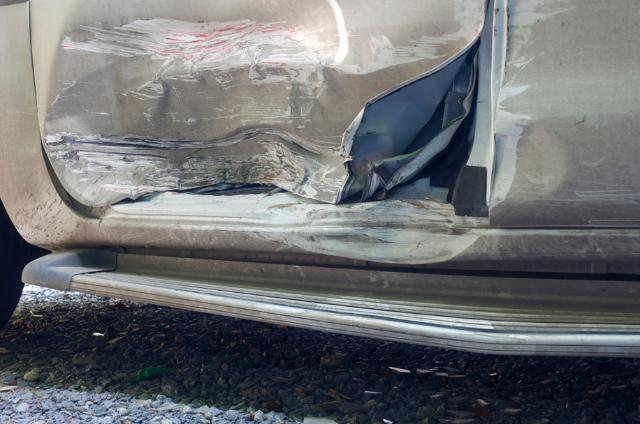Door: (40, 8, 493, 290)
